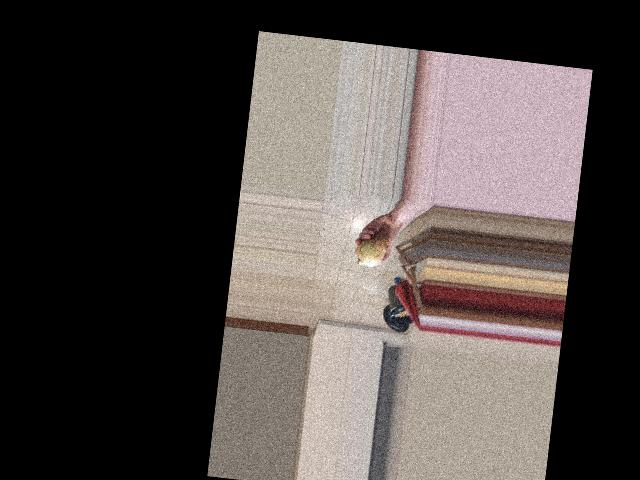onion: (355, 234, 390, 269)
